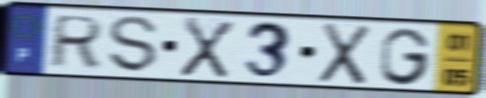3: (241, 18, 298, 82)
G: (379, 26, 435, 87)
R: (45, 13, 107, 70)
S: (107, 14, 161, 75)
X: (176, 15, 237, 81), (315, 21, 374, 88)
